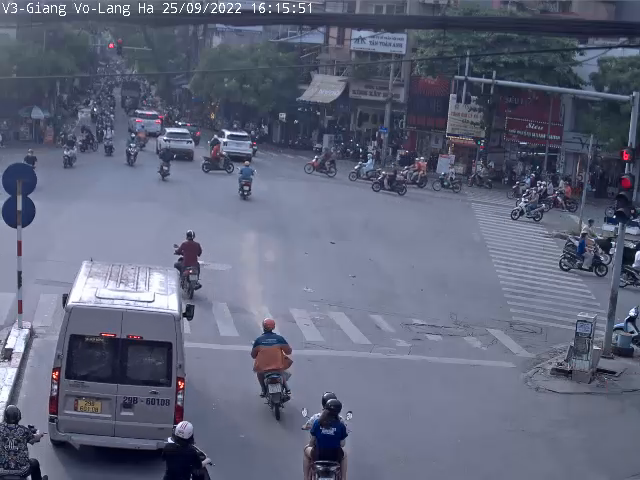người trên xe: (236, 316, 298, 424), (298, 391, 355, 480), (0, 396, 57, 480), (160, 418, 220, 480), (167, 232, 211, 305), (229, 155, 257, 205), (153, 137, 176, 185)
